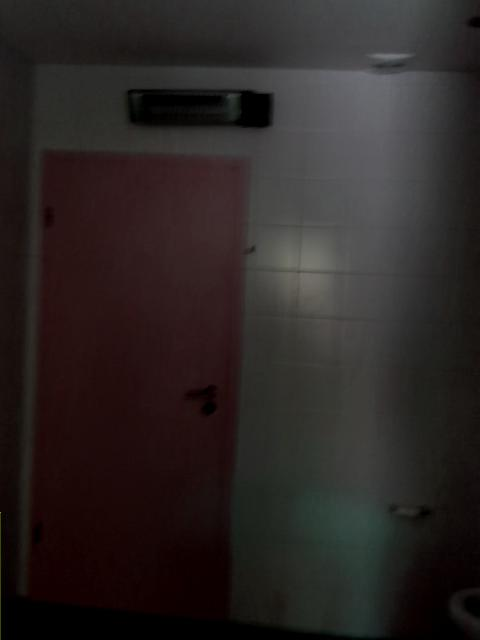closed_door: (25, 146, 250, 639)
